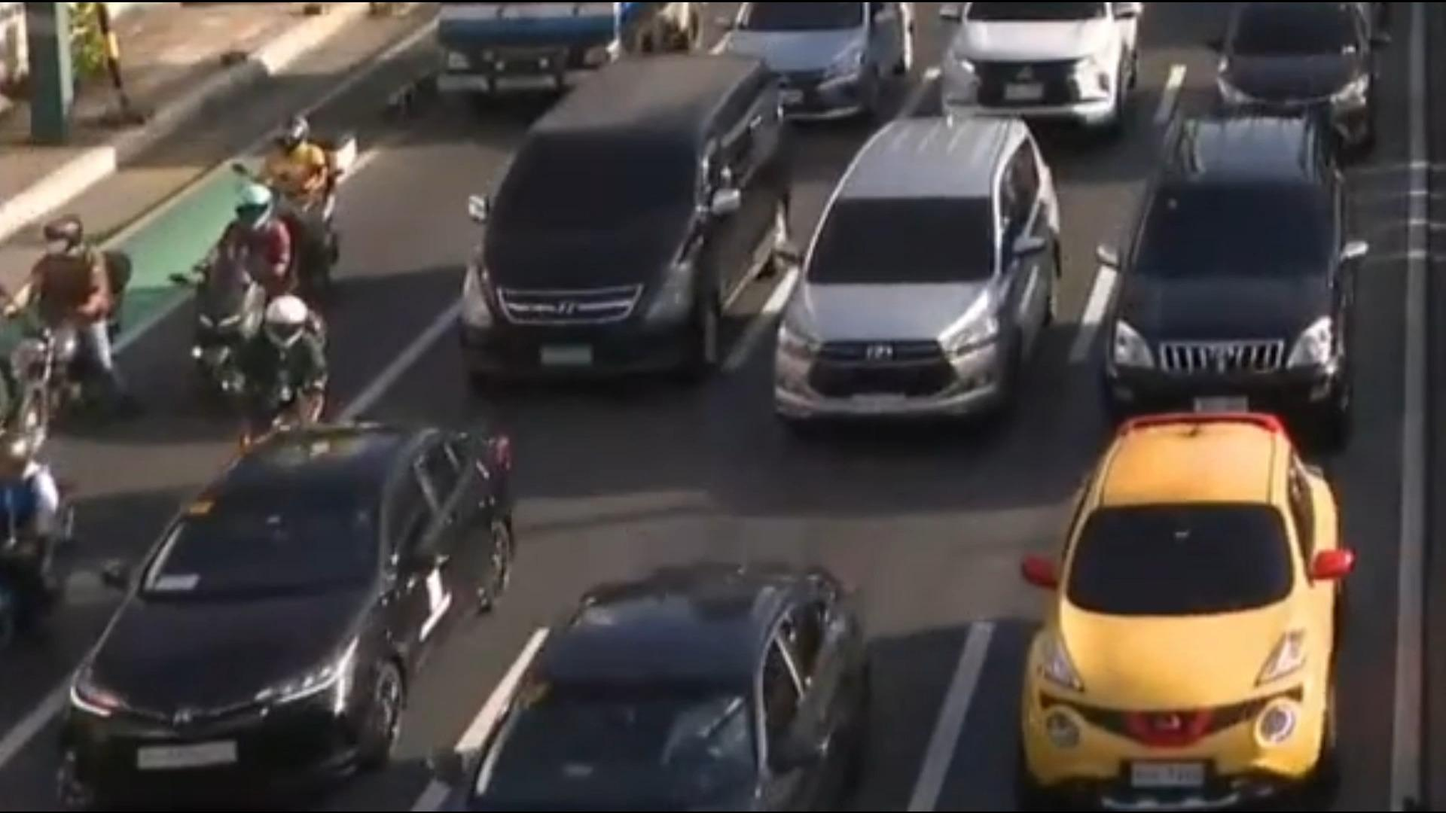Motorcycle: (0, 204, 142, 405), (176, 185, 301, 397), (232, 93, 359, 297)
SUV: (1017, 409, 1356, 802), (764, 116, 1062, 428), (1092, 118, 1371, 426), (935, 0, 1140, 129)
Sedan: (49, 417, 517, 808), (423, 560, 863, 813), (700, 3, 922, 126), (1202, 0, 1398, 134)
Van: (452, 55, 790, 391)
